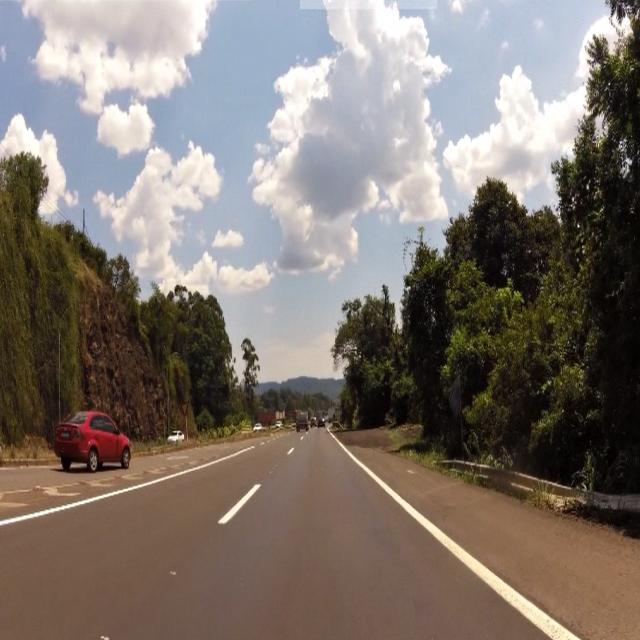R-2: (181, 401, 189, 418)
